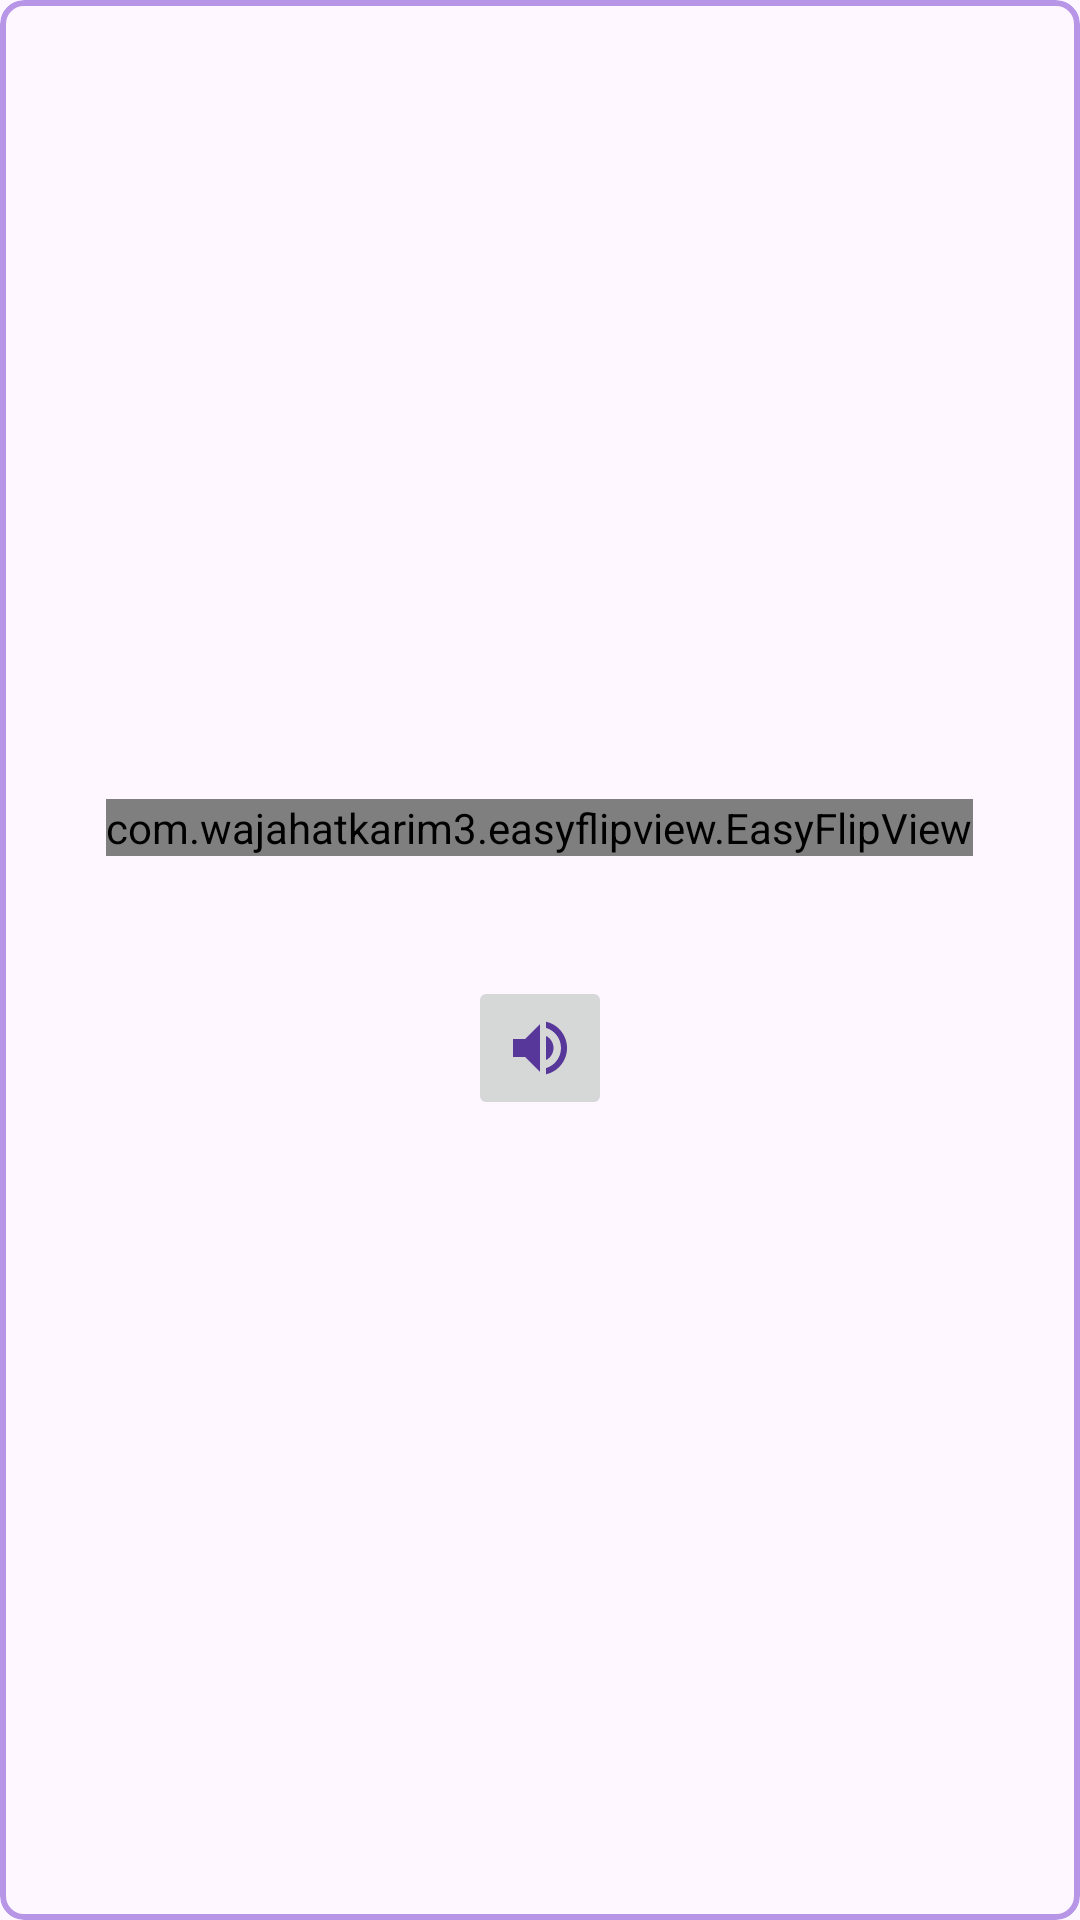

Icon click points for this 1080 x 1920 phone screenshot, format [x,y]:
Convert text to speech: [540,1048]
